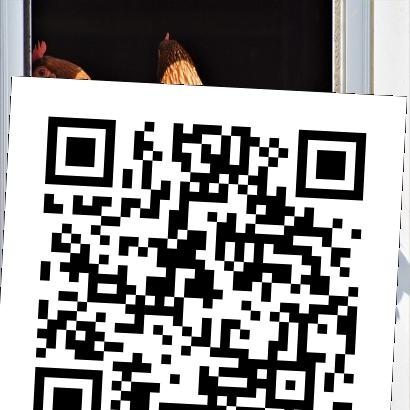qr_code: (0, 39, 406, 410)
